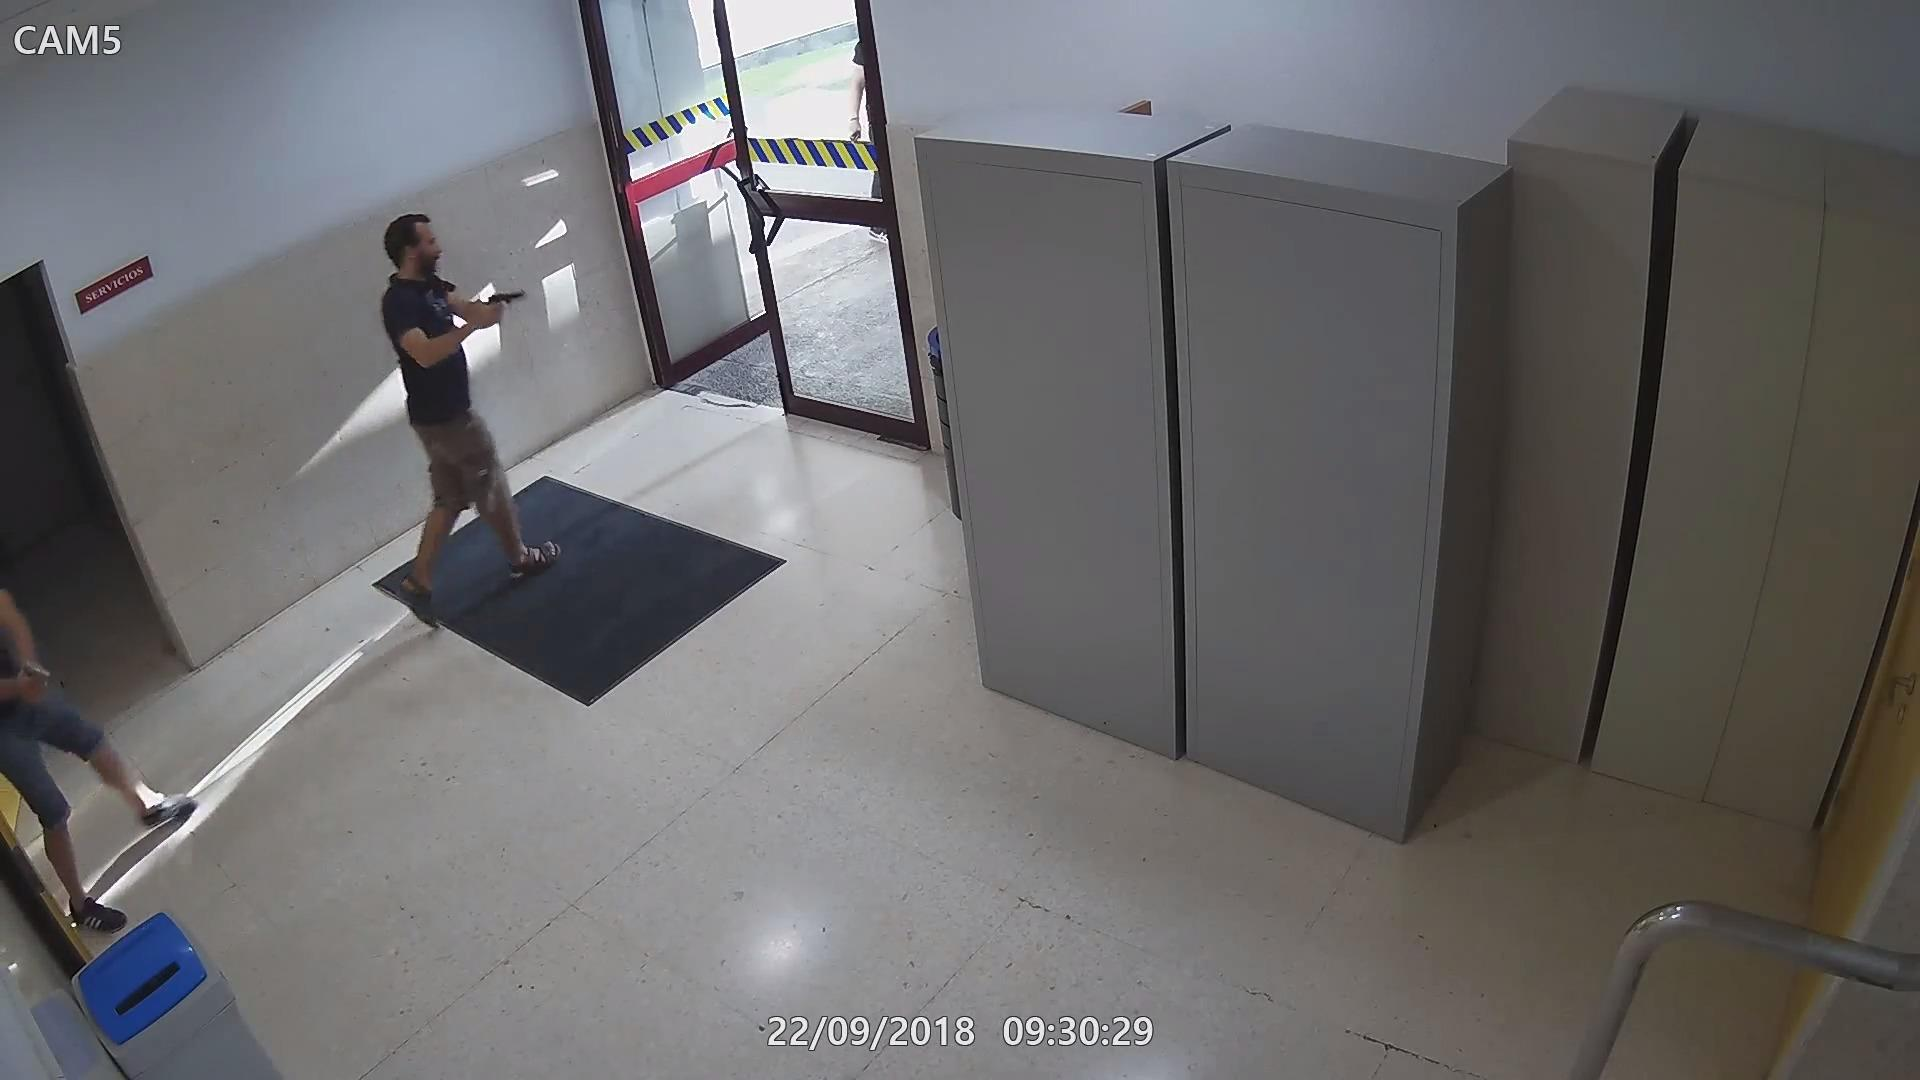Handgun: (471, 286, 527, 332), (16, 657, 50, 700)
